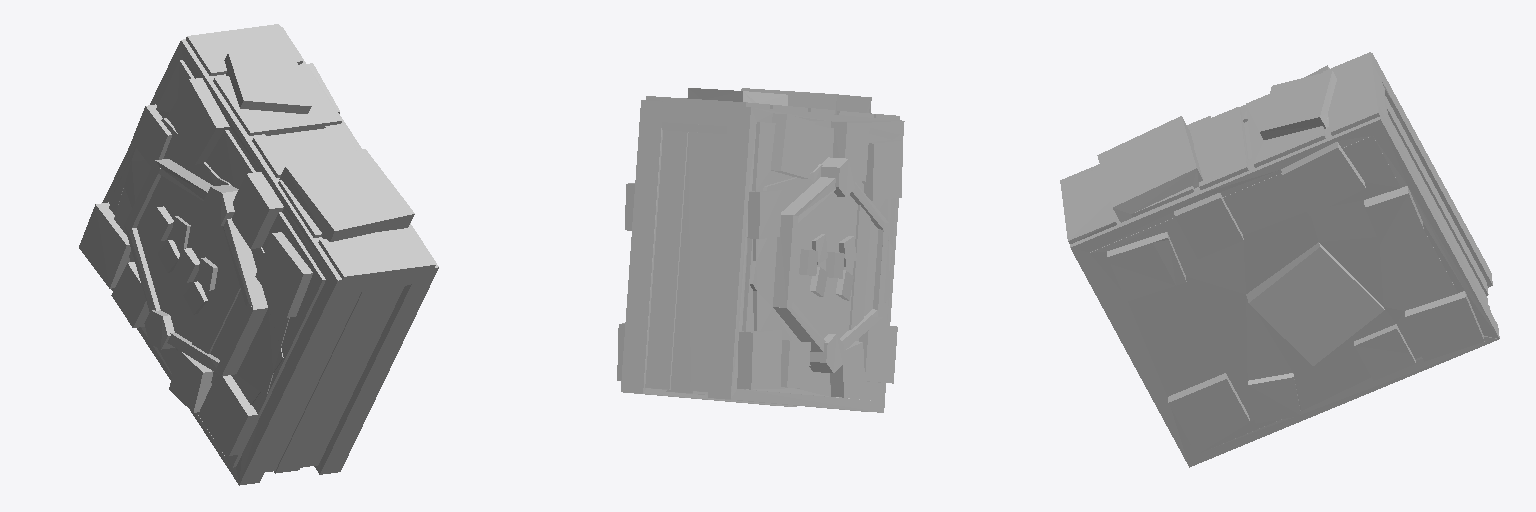
The model's file is SpellBook.obj.
3 renders of one model, left to right at view 1: azimuth 30°, elevation 25°; view 2: azimuth 150°, elevation 25°; view 3: azimuth 270°, elevation 25°, orthographic.
Visible parts, largest first — view 1: book; view 2: book; view 3: book.
Part boxes in pixels (x1,y1,x2,y2): book: (79,24,438,485); book: (617,88,904,412); book: (1060,52,1499,467).
Bounding box in the file's own units: 0.246 × 0.5256 × 0.5441.